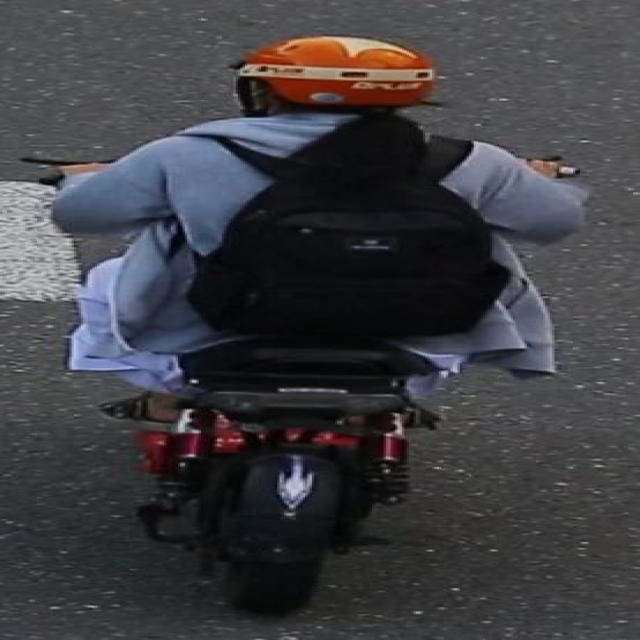helmet: (222, 28, 448, 141)
